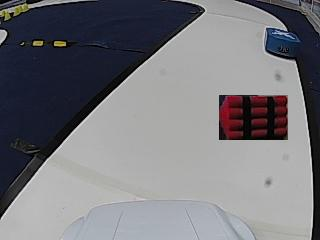prop: (265, 27, 301, 60)
